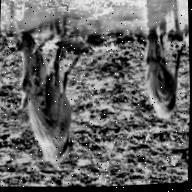boar: (10, 31, 77, 172), (141, 28, 186, 122)
